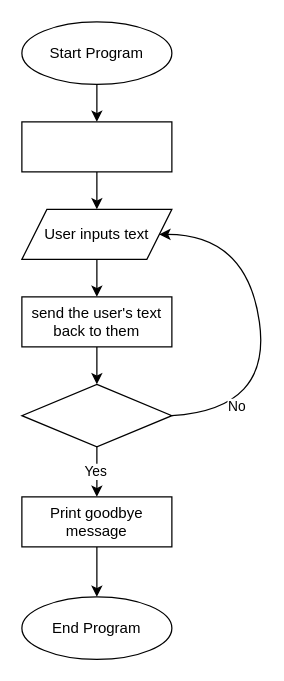
Image size: 284x681. Some labels were removed from this diagram. The centre of each missing label's shape, as x and y in pixels:
Is the text "0"?: point (96, 415)
Start looping: point (96, 146)
